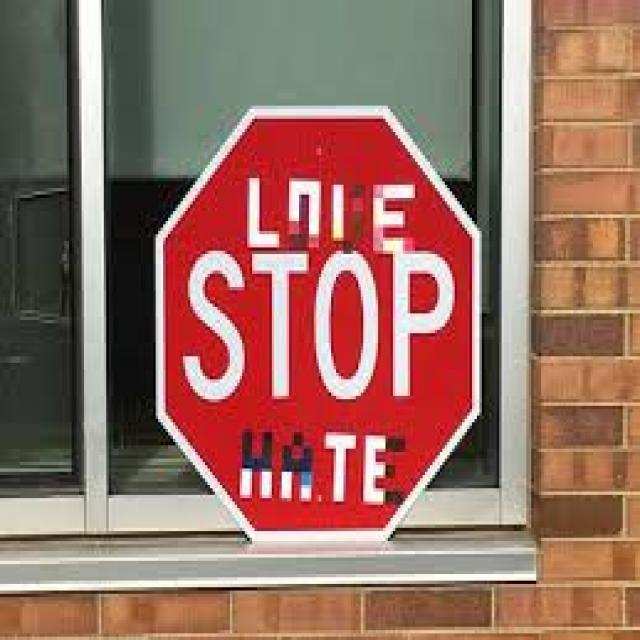stop-sign: (158, 115, 495, 574)
